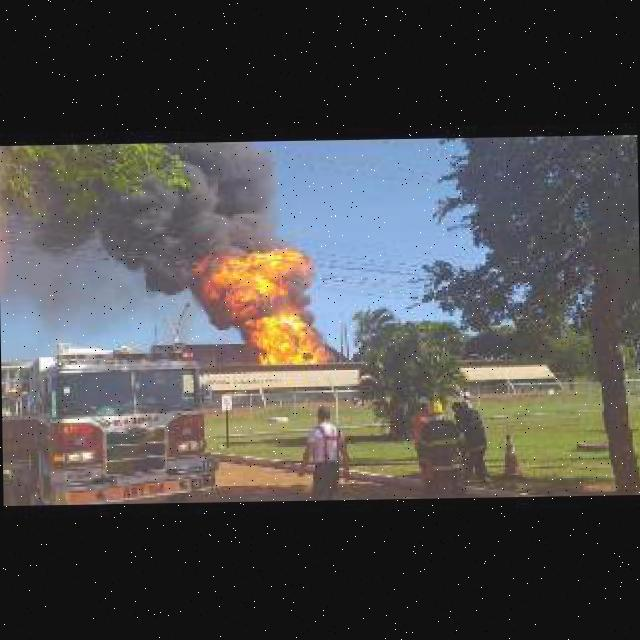Fire: (193, 234, 331, 364)
Smoke: (15, 139, 281, 256)
